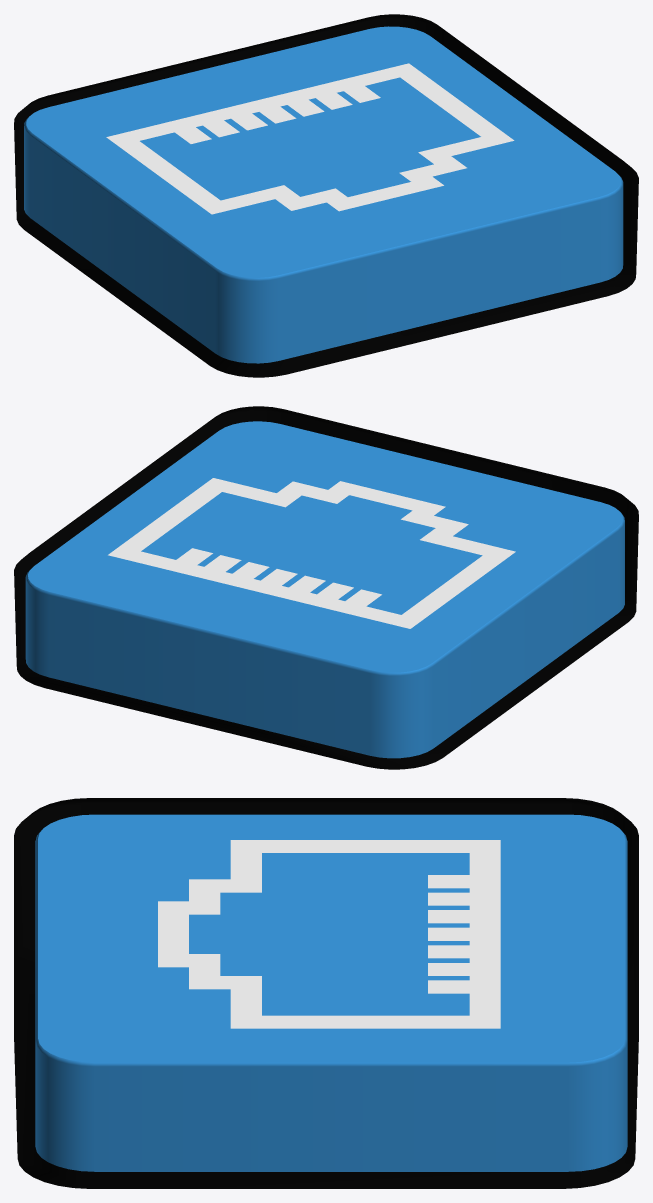
Rendered from Port.obj.
The picture shows the model from 3 angles, top to bottom: view 1: azimuth 30°, elevation 25°; view 2: azimuth 150°, elevation 25°; view 3: azimuth 270°, elevation 25°; orthographic projection. The views are drawn at different scales.
Parts seen in each view (by area): view 1: Port; view 2: Port; view 3: Port.
Part boxes in pixels (x1=…): Port: x1=14, y1=14, x2=638, y2=377; Port: x1=14, y1=406, x2=638, y2=769; Port: x1=14, y1=798, x2=638, y2=1188.
Size of the model in its own units: 1.06 by 0.2484 by 1.06.
